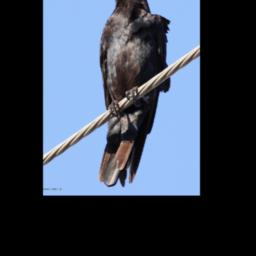Crow: (97, 0, 171, 188)
